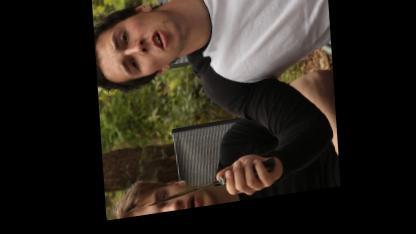knife: (136, 158, 280, 216)
